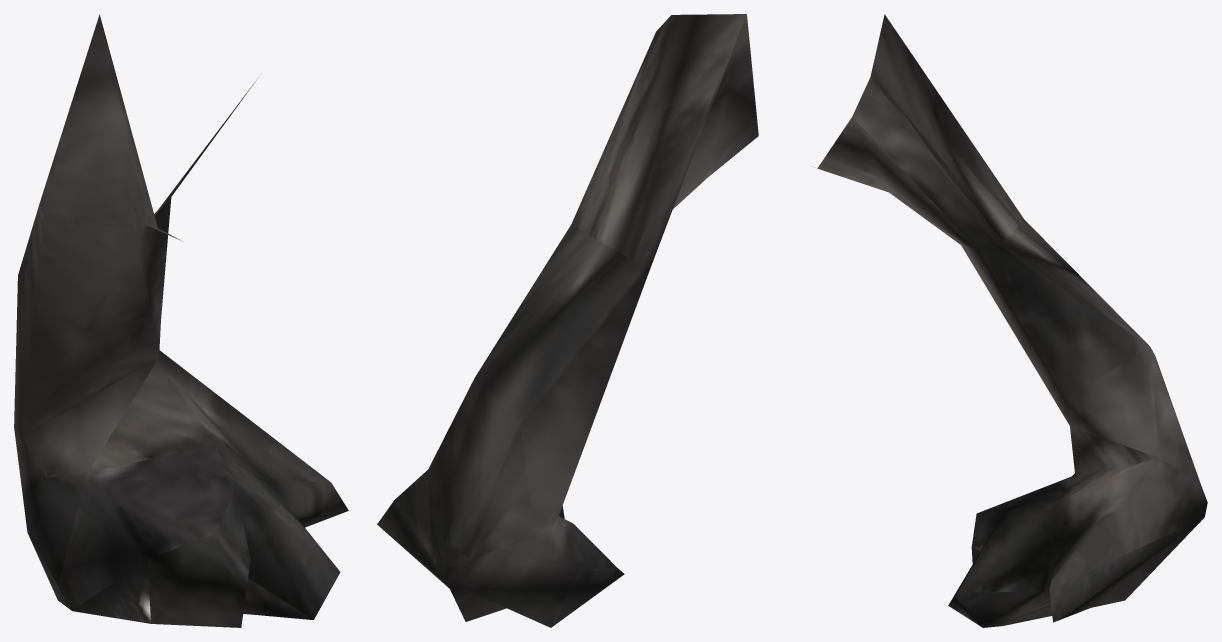
Rendered from hound_leg_bposx.glb.
The picture shows the model from 3 angles, left to right: view 1: azimuth 30°, elevation 25°; view 2: azimuth 150°, elevation 25°; view 3: azimuth 270°, elevation 25°; orthographic projection. The views are drawn at different scales.
Parts seen in each view (by area): view 1: hound_leg_bposx; view 2: hound_leg_bposx; view 3: hound_leg_bposx.
Boxes of the visible parts, x1=… form: hound_leg_bposx: x1=14, y1=14, x2=348, y2=627; hound_leg_bposx: x1=377, y1=14, x2=758, y2=627; hound_leg_bposx: x1=817, y1=14, x2=1207, y2=627.
Bounding box in the file's own units: 0.3645 × 0.686 × 0.4929.
1 material, 1 textured.
